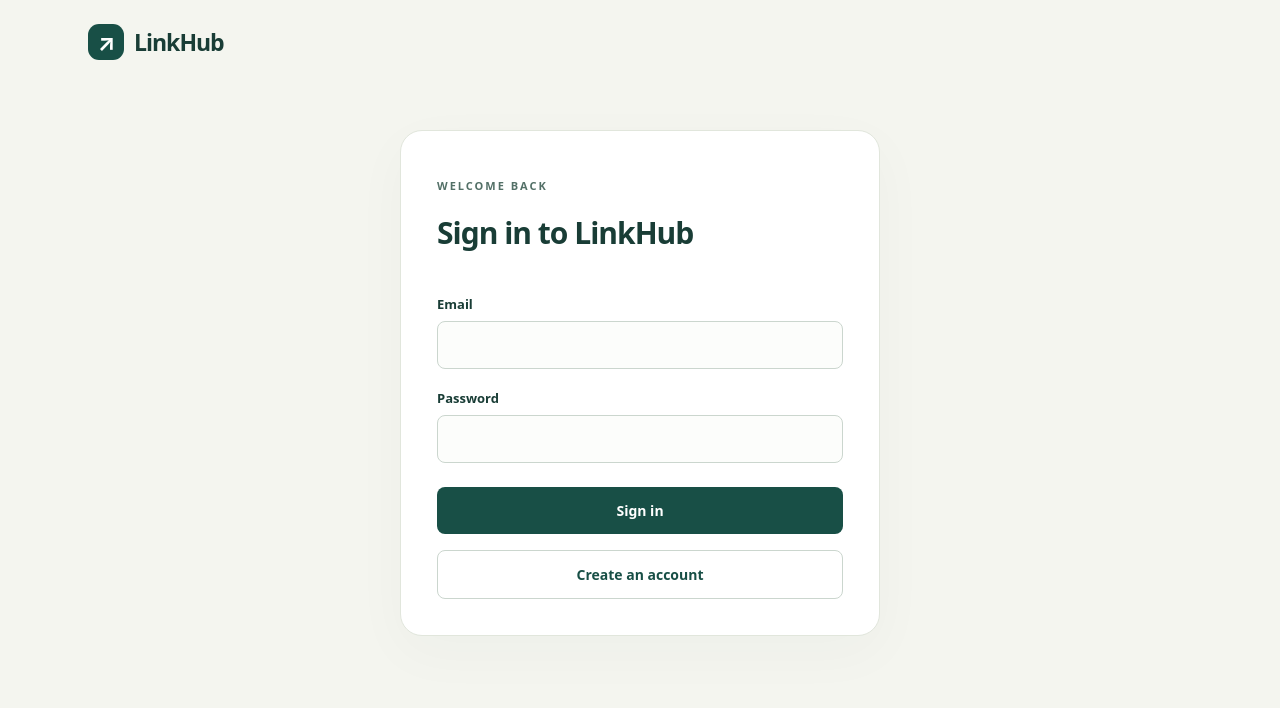
can switch between registration and login
The image size is (1280, 708).
Click the button "Create an account". click: [640, 575]
box: [437,550,843,599]
(page scrolled)
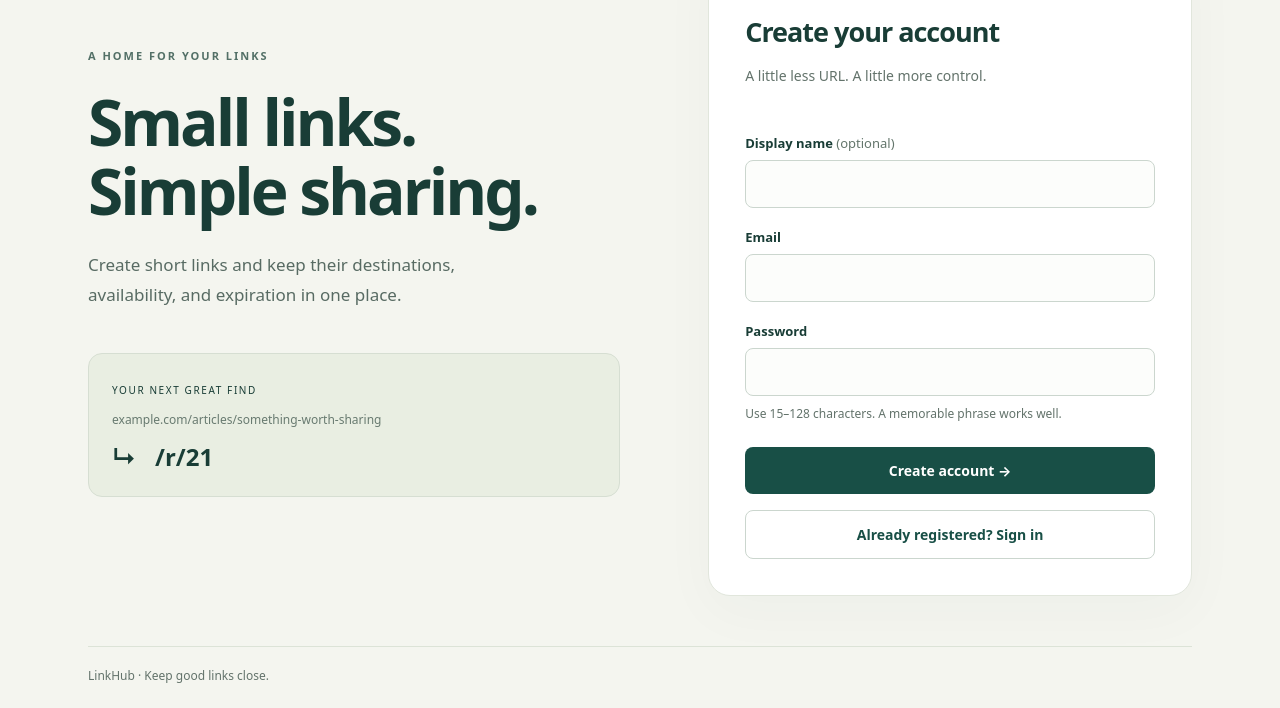
Expected: the field labelled "Display name (optional)" is shown, [745,160,1155,208]
Click the button "Already registered? Sign in". click: [950, 534]
box: [745,510,1155,559]
(page scrolled)
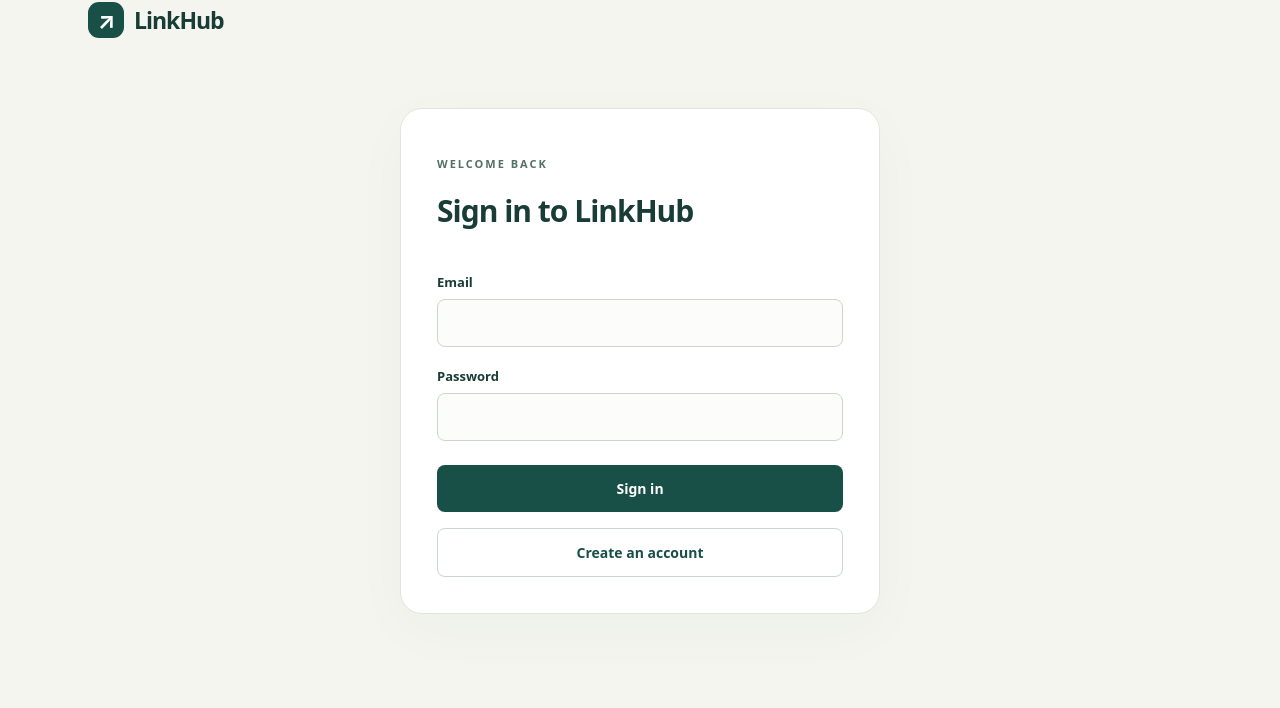
Expected: the label labelled "Display name" is gone
